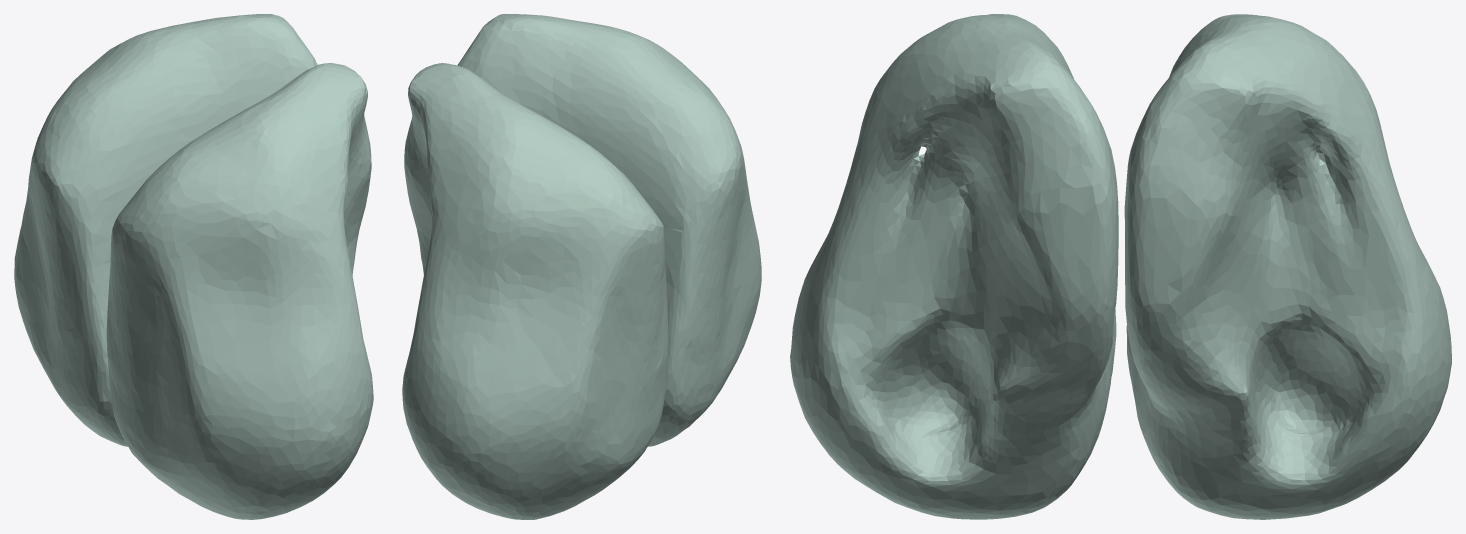
The picture shows the model from 3 angles, left to right: view 1: azimuth 30°, elevation 25°; view 2: azimuth 150°, elevation 25°; view 3: azimuth 270°, elevation 25°; orthographic projection. The views are drawn at different scales.
Visible parts, largest first — view 1: 507.obj; view 2: 507.obj; view 3: 507.obj.
Boxes of the visible parts, bbox=[...] form: 507.obj: bbox=[14, 14, 373, 519]; 507.obj: bbox=[402, 14, 761, 519]; 507.obj: bbox=[790, 14, 1451, 519].
Size of the model in its own units: 2527 by 3716 by 4233.
